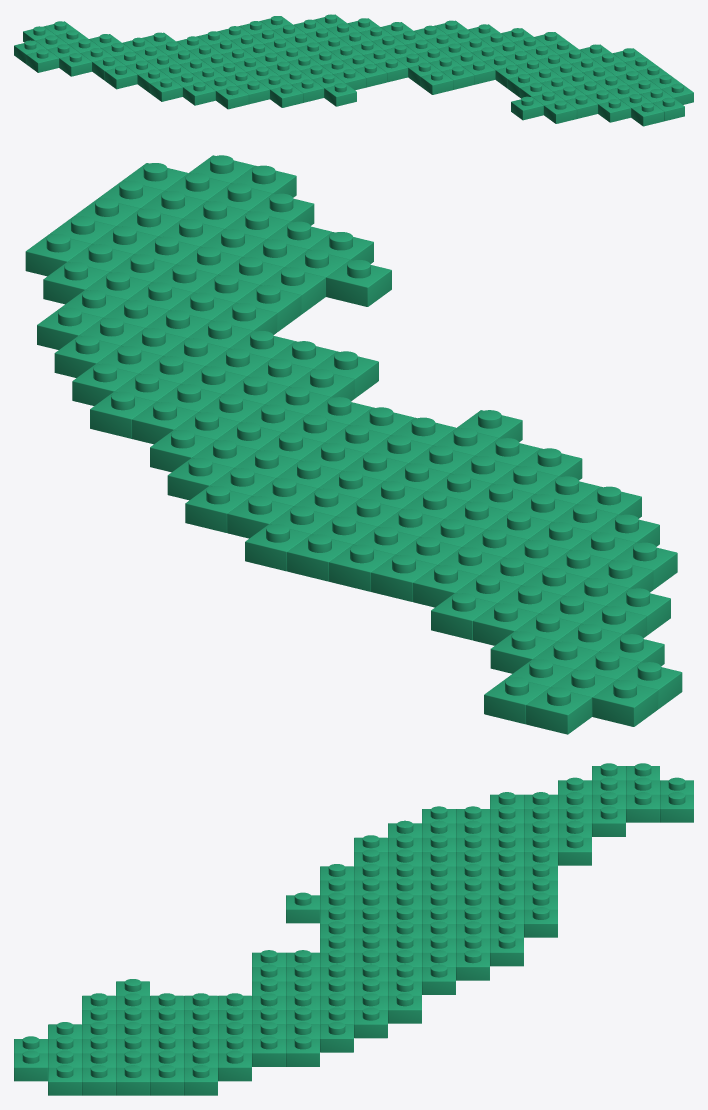
Rendered from Peru.fbx.
3 views of the same model, one above another, from view 1: azimuth 30°, elevation 25°; view 2: azimuth 150°, elevation 25°; view 3: azimuth 270°, elevation 25° (orthographic). The views are drawn at different scales.
Parts seen in each view (by area): view 1: Cylinder_118; view 2: Cylinder_118; view 3: Cylinder_118.
Boxes of the visible parts, box(x1,y1,x2,y2) form: Cylinder_118: box(14, 14, 693, 126); Cylinder_118: box(25, 155, 682, 734); Cylinder_118: box(14, 763, 693, 1095).
Bounding box in the file's own units: 2200 × 65.03 × 2000.
